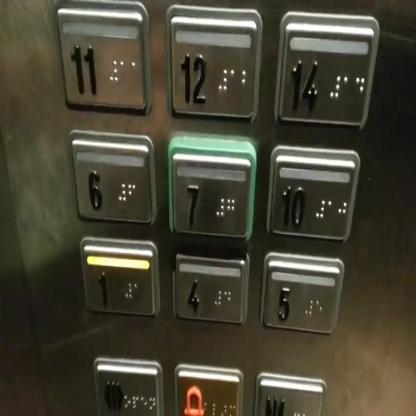1: (79, 236, 160, 322)
10: (266, 144, 359, 242)
11: (52, 0, 152, 115)
12: (165, 1, 264, 122)
14: (274, 9, 379, 131)
4: (172, 246, 252, 327)
5: (257, 252, 344, 335)
6: (66, 128, 158, 229)
7: (167, 132, 256, 242)
alarm: (172, 356, 244, 415)
open: (92, 353, 166, 415)
